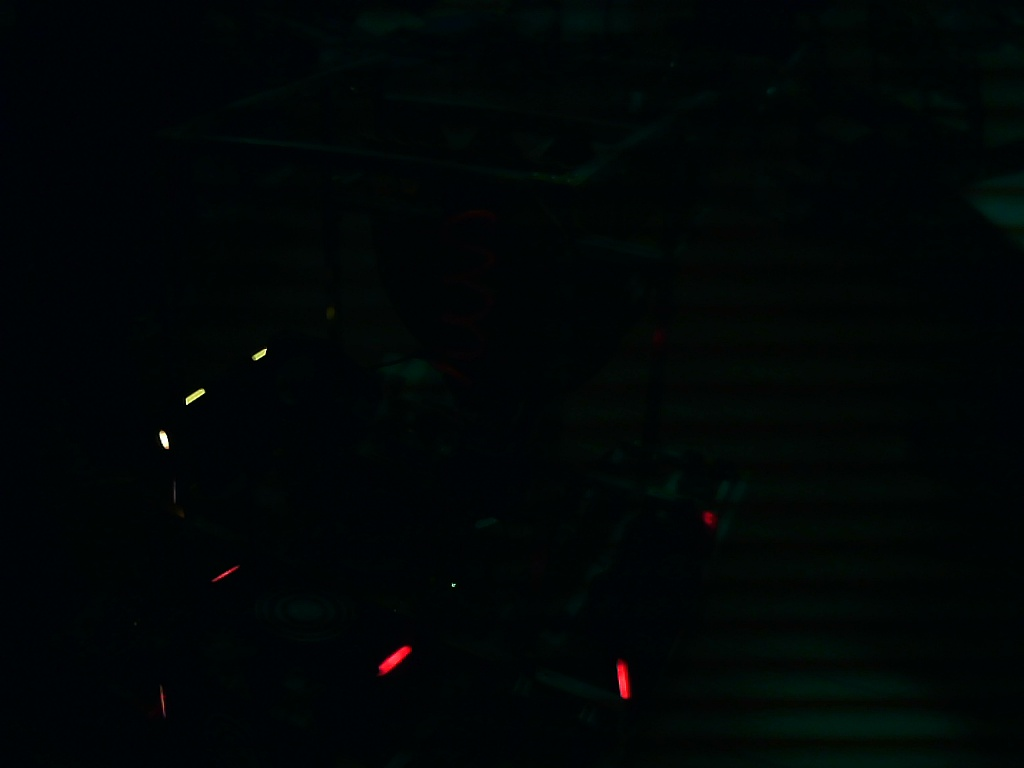lamp: (610, 657, 636, 704)
